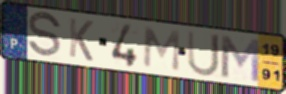4: (110, 21, 140, 68)
K: (67, 16, 95, 64)
M: (218, 33, 262, 85), (141, 25, 182, 74)
S: (27, 11, 64, 60)
U: (186, 29, 222, 78)
